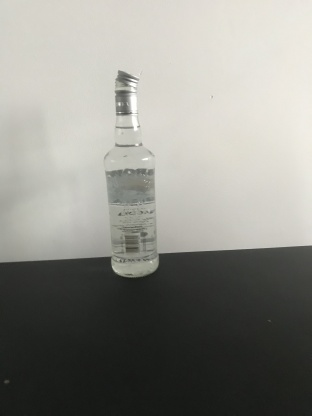nakretka: (113, 67, 140, 116)
